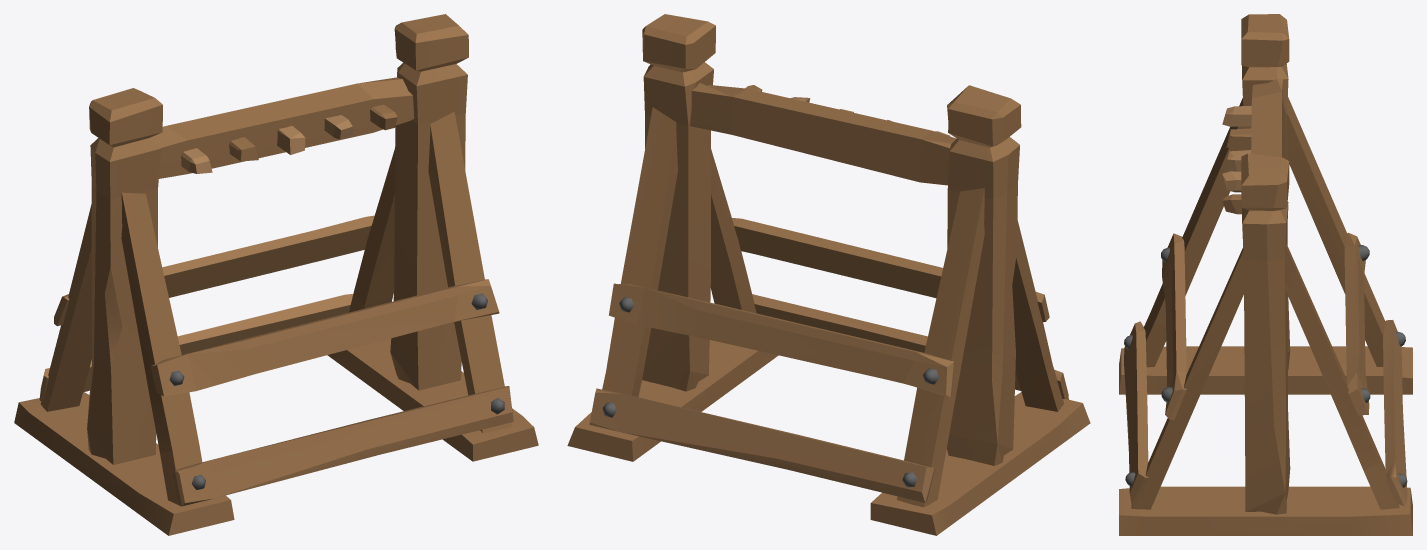
Rendered from WeaponRack_D.fbx.
The picture shows the model from 3 angles, left to right: view 1: azimuth 30°, elevation 25°; view 2: azimuth 150°, elevation 25°; view 3: azimuth 270°, elevation 25°; orthographic projection. The views are drawn at different scales.
Parts seen in each view (by area): view 1: WeaponRack_D; view 2: WeaponRack_D; view 3: WeaponRack_D.
Boxes of the visible parts, left/top/right/bottom form: WeaponRack_D: left=14, top=14, right=538, bottom=535; WeaponRack_D: left=567, top=14, right=1090, bottom=535; WeaponRack_D: left=1119, top=14, right=1412, bottom=535.
Bounding box in the file's own units: 139 × 135 × 100.
